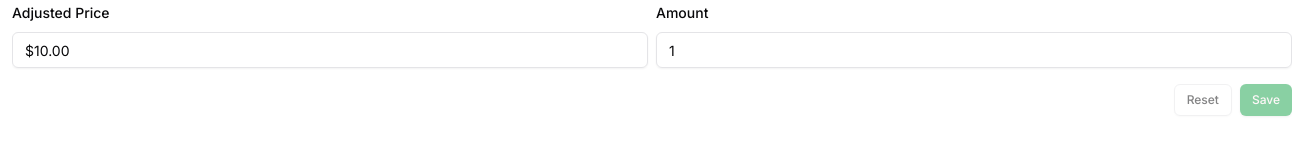
Test: ProductShowPivotForm › updates input values correctly
Replace the text in the field labelled "Adjusted Price" with "12.34": (330,50) [12, 32, 648, 68]
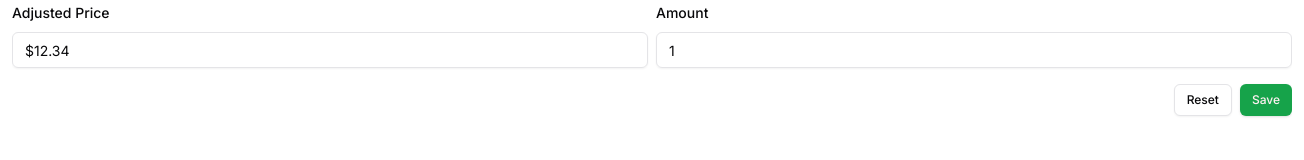
Check: the field labelled "Adjusted Price" holds "$12.34", box [12, 32, 648, 68]
